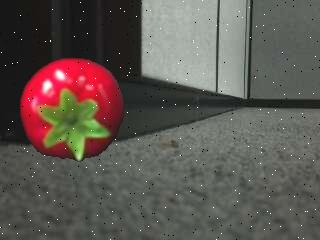Tomato: (20, 56, 123, 162)
